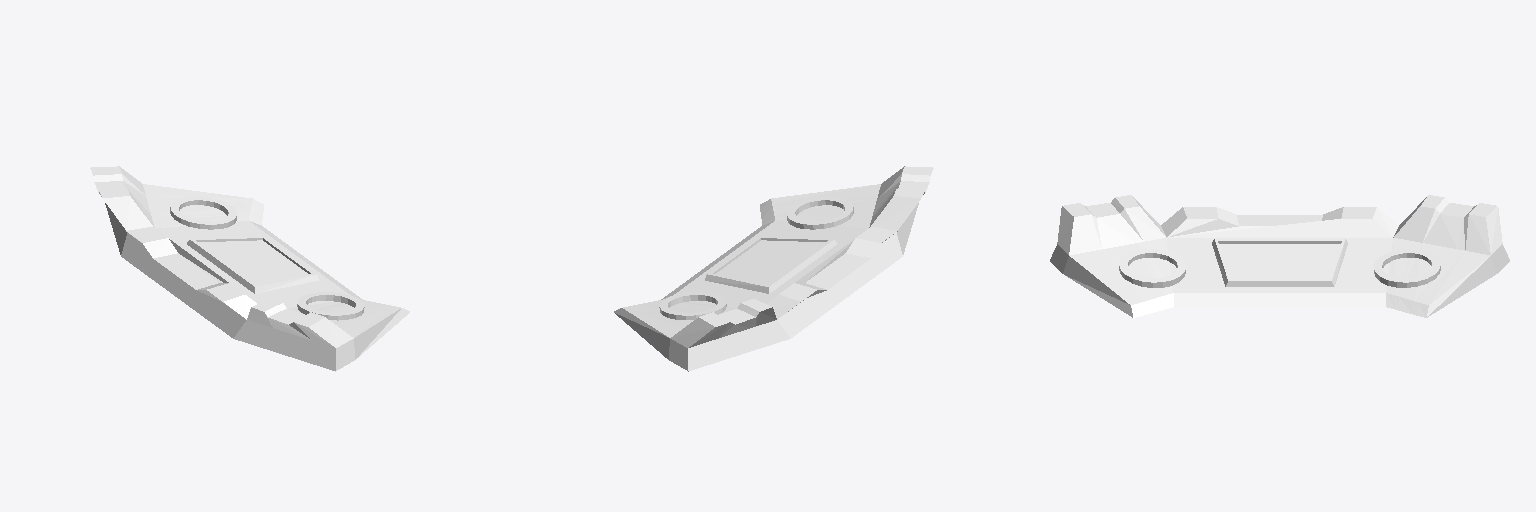
The model's file is Dashboard.obj.
3 views of the same model, side by side, from view 1: azimuth 30°, elevation 25°; view 2: azimuth 150°, elevation 25°; view 3: azimuth 270°, elevation 25° (orthographic).
Parts seen in each view (by area): view 1: polySurface1; view 2: polySurface1; view 3: polySurface1.
Part boxes in pixels (x1,y1,x2,y2): polySurface1: (90, 166, 409, 371); polySurface1: (614, 166, 933, 371); polySurface1: (1050, 195, 1509, 317).
Size of the model in its own units: 1.7 by 0.4485 by 4.17.